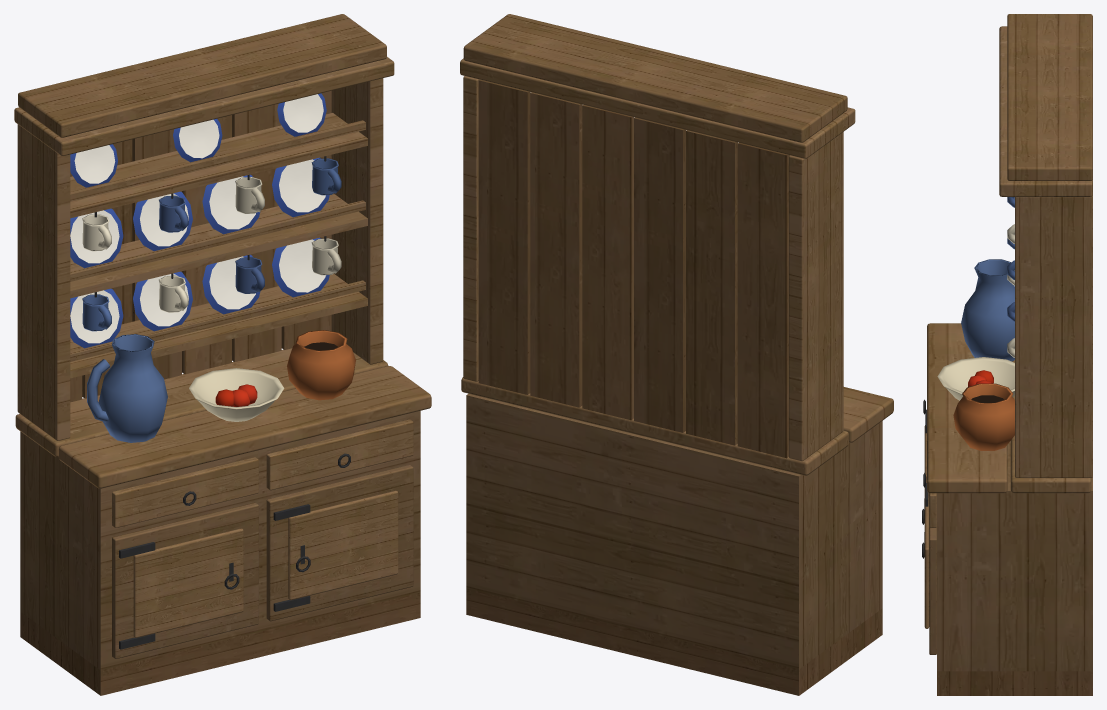
File: prop_cupboard.glb
The picture shows the model from 3 angles, left to right: view 1: azimuth 30°, elevation 25°; view 2: azimuth 150°, elevation 25°; view 3: azimuth 270°, elevation 25°; orthographic projection. The views are drawn at different scales.
Visible parts, largest first — view 1: prop; view 2: prop; view 3: prop.
Part boxes in pixels (x1=…): prop: x1=14, y1=14, x2=431, y2=695; prop: x1=460, y1=14, x2=893, y2=695; prop: x1=922, y1=14, x2=1092, y2=695.
Size of what is drawn, in the model's own units: 0.96 by 1.5 by 0.4385.
4 materials, 2 textured.
